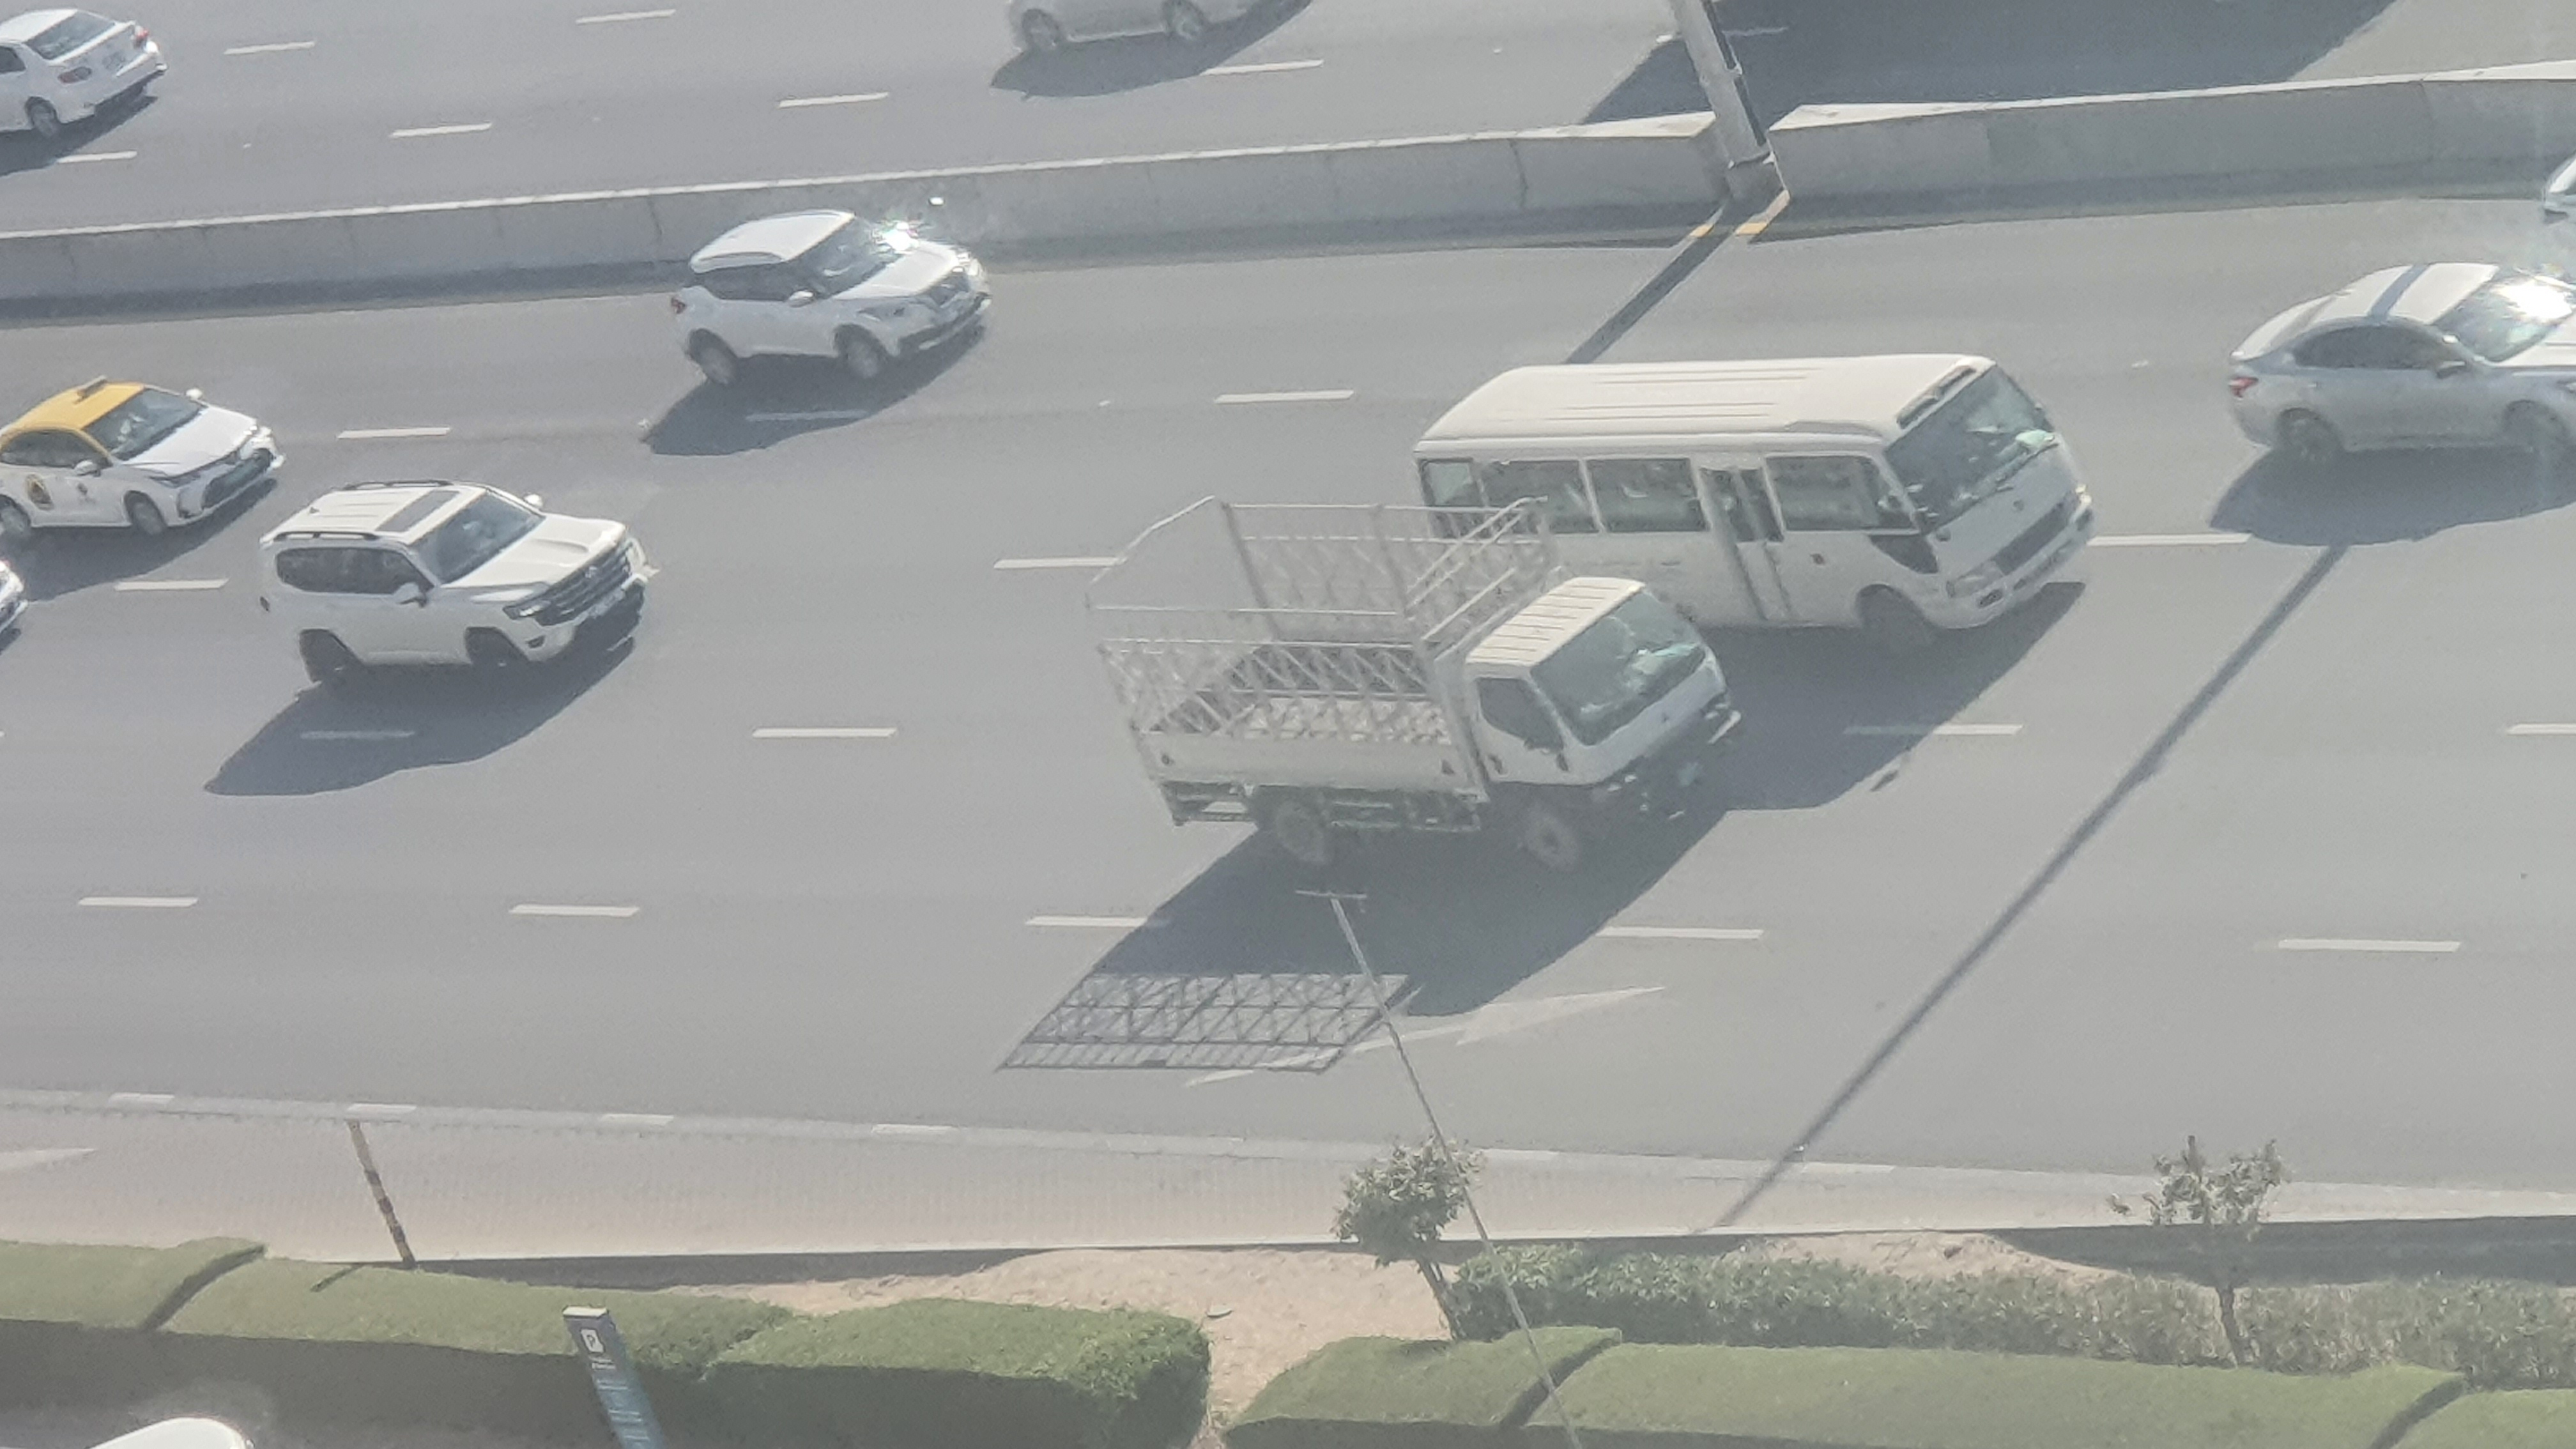NotSunroof: (2226, 255, 2576, 494), (663, 205, 989, 402), (7, 384, 274, 536)
Sunroof: (258, 488, 660, 697)
